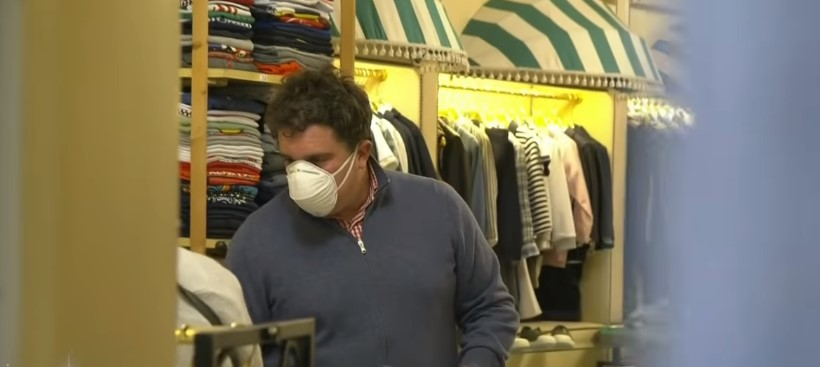face_with_mask: (274, 80, 373, 217)
